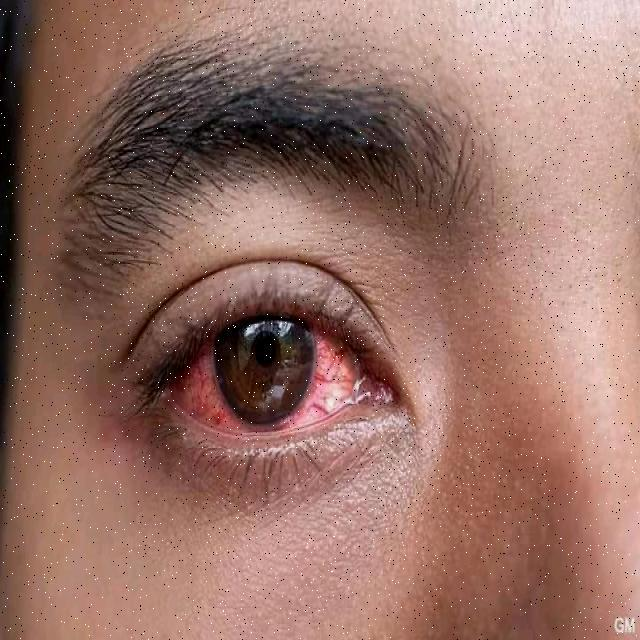Conjunctivitis: (153, 316, 410, 441)
